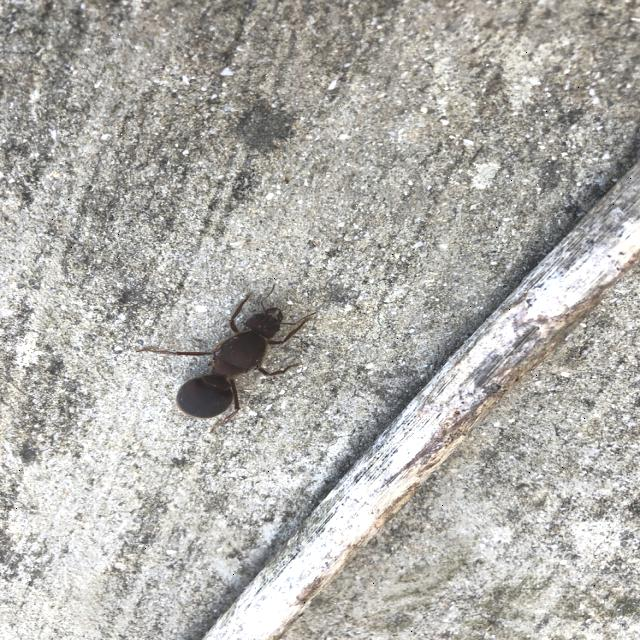Alive-Female-Dealate: (143, 294, 317, 432)
